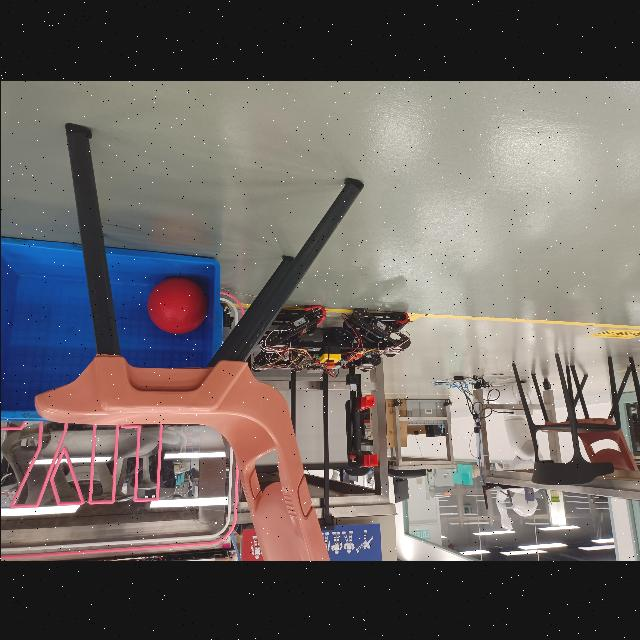R: (147, 274, 209, 338)
